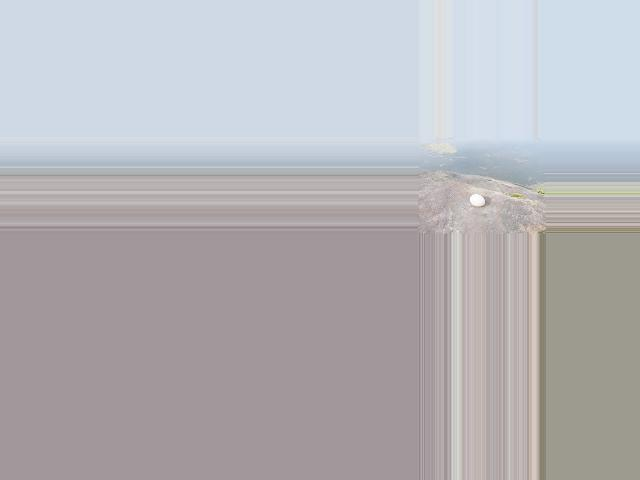egg: (468, 194, 484, 206)
